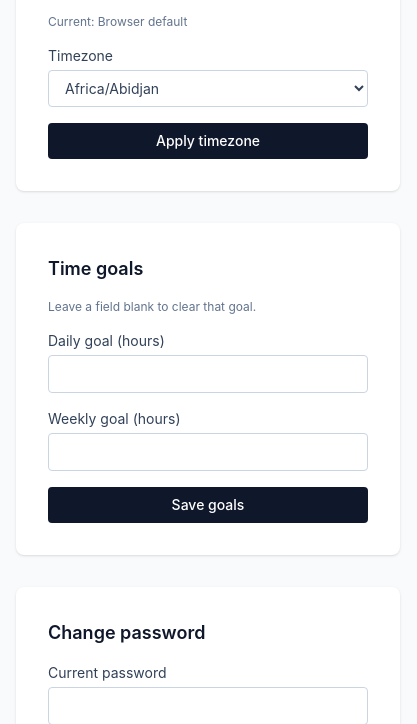
Test case: DashboardPage › saves time goals successfully
The width and height of the screenshot is (417, 724).
(page scrolled)
Type "4" into the number field labelled "Daily goal (hours)" at (208, 374), box [48,355,368,393]
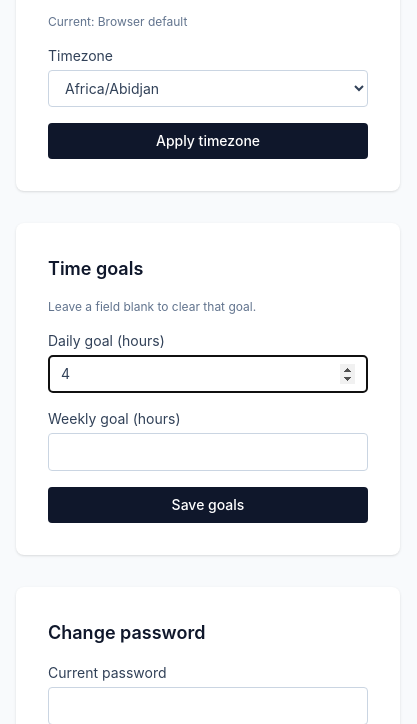
Type "20" into the number field labelled "Weekly goal (hours)" at (208, 452), box [48,433,368,471]
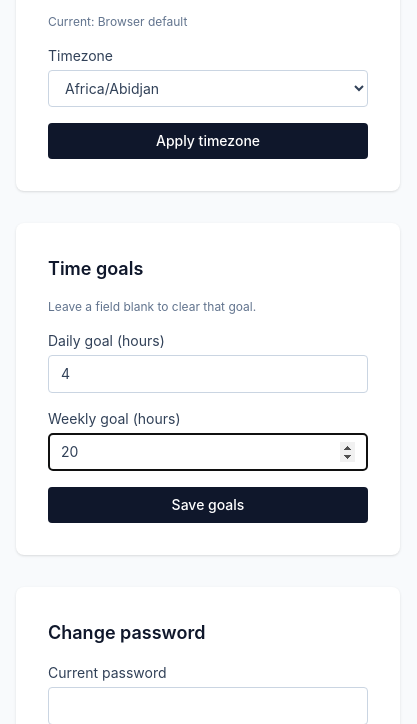
Click the button "Save goals" at (208, 505), box [48,487,368,523]
(page scrolled)
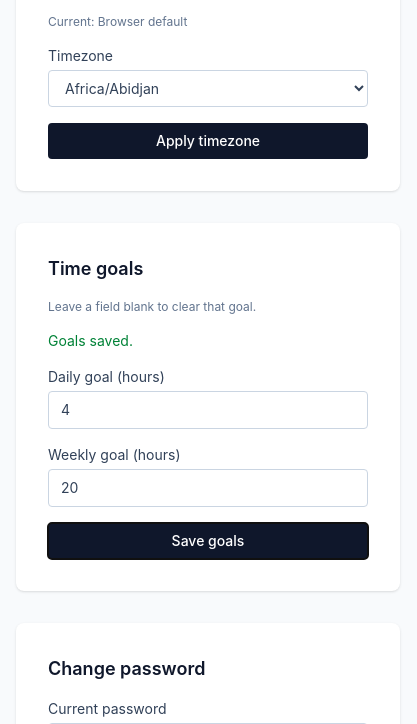
Expected: the text "Goals saved." is shown, [48,332,133,349]
